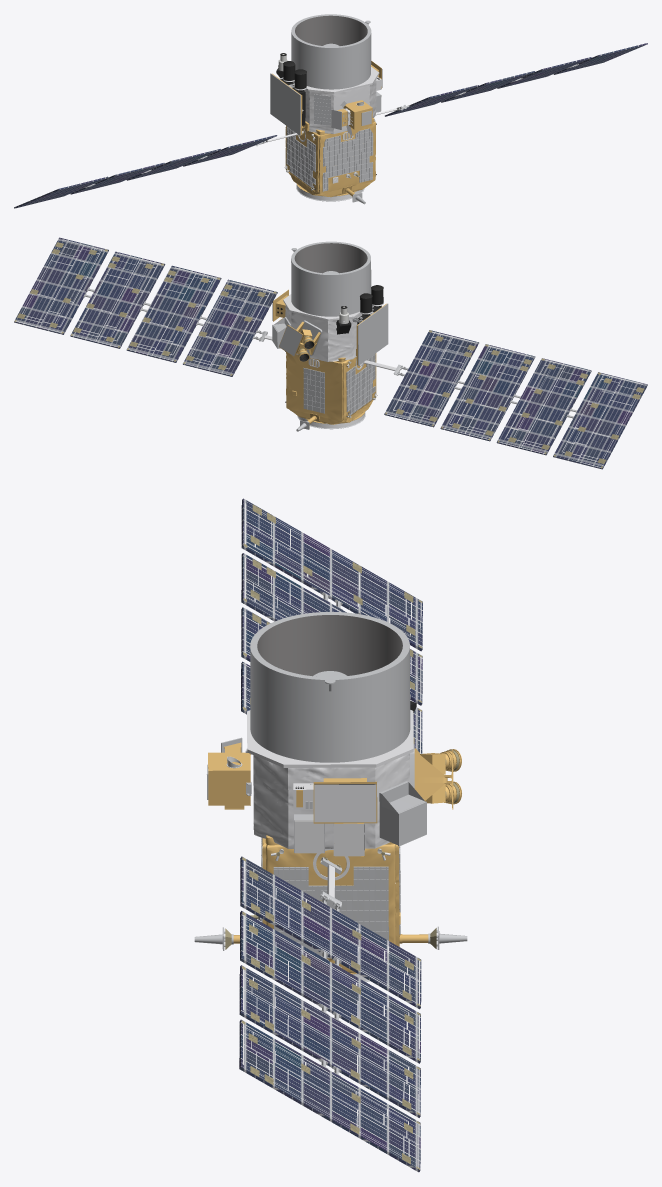
Rendered from calipso.glb.
3 views of the same model, one above another, from view 1: azimuth 30°, elevation 25°; view 2: azimuth 150°, elevation 25°; view 3: azimuth 270°, elevation 25° (orthographic). The views are drawn at different scales.
Visible parts, largest first — view 1: Mesh _node_19, calipso, Mesh _node_1, Mesh _node_7, Mesh _node_18, Mesh _node_14, Mesh _node_4; view 2: calipso, Mesh _node_7, Mesh _node_19, Mesh _node_1, Mesh _node_0, Mesh _node_18, Mesh _node, Mesh _node_4, Mesh _node_14; view 3: calipso, Mesh _node_19, Mesh _node_7, Mesh _node_1, Mesh _node_18, Mesh _node_4, Mesh _node_0, Mesh _node.
Boxes of the visible parts, x1,y1,x2,y2 form: Mesh _node_19: [270, 14, 373, 201]; calipso: [14, 43, 647, 208]; Mesh _node_1: [272, 61, 381, 197]; Mesh _node_7: [267, 65, 397, 200]; Mesh _node_18: [295, 15, 367, 45]; Mesh _node_14: [276, 53, 382, 189]; Mesh _node_4: [84, 22, 578, 204]; calipso: [14, 237, 647, 469]; Mesh _node_7: [16, 239, 642, 467]; Mesh _node_19: [272, 241, 388, 429]; Mesh _node_1: [273, 289, 386, 424]; Mesh _node_0: [17, 242, 644, 463]; Mesh _node_18: [294, 243, 367, 273]; Mesh _node: [14, 242, 643, 468]; Mesh _node_4: [83, 249, 577, 431]; Mesh _node_14: [272, 285, 383, 417]; calipso: [239, 498, 422, 1172]; Mesh _node_19: [206, 612, 426, 982]; Mesh _node_7: [242, 503, 423, 1167]; Mesh _node_1: [208, 742, 461, 974]; Mesh _node_18: [257, 615, 402, 676]; Mesh _node_4: [194, 592, 467, 1076]; Mesh _node_0: [248, 504, 415, 1164]; Mesh _node: [225, 505, 459, 1169].
Size of the model in its own units: 7.43 by 1.89 by 1.49.
Materials: 10 (1 with a texture image).
